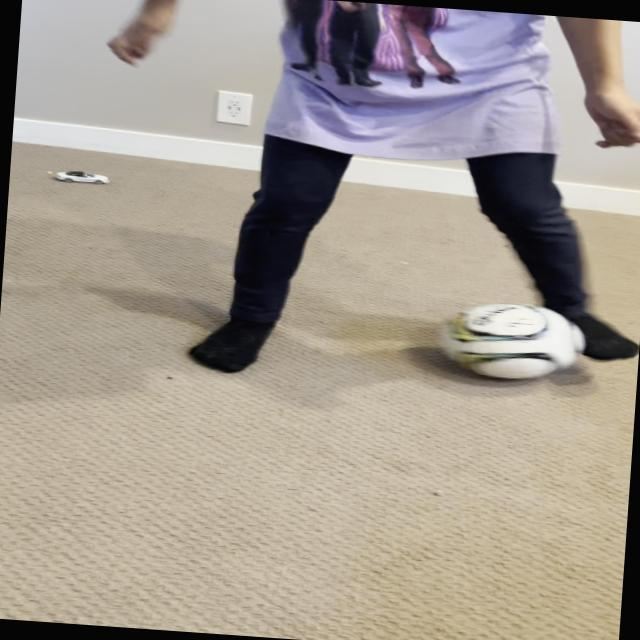Soccer Ball: (436, 297, 590, 383)
